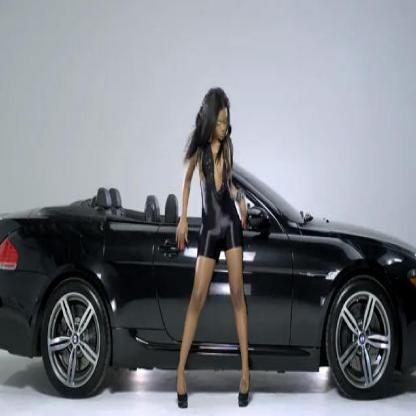Vehicle: (1, 166, 415, 400)
